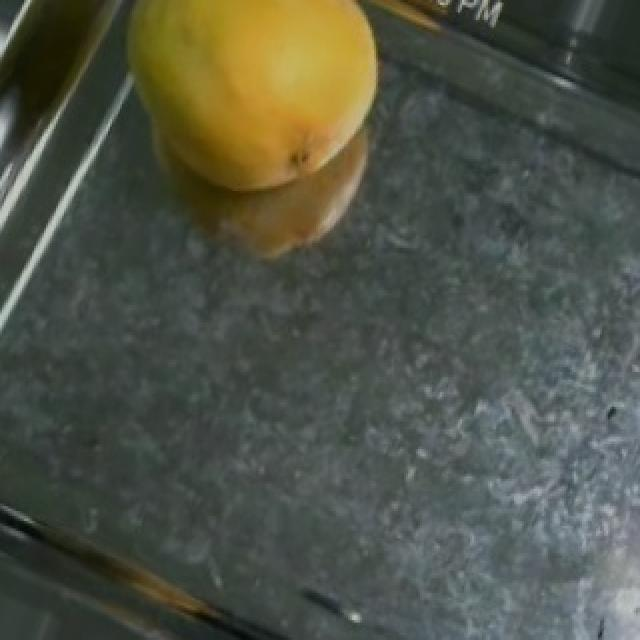fruit: (86, 0, 434, 243)
